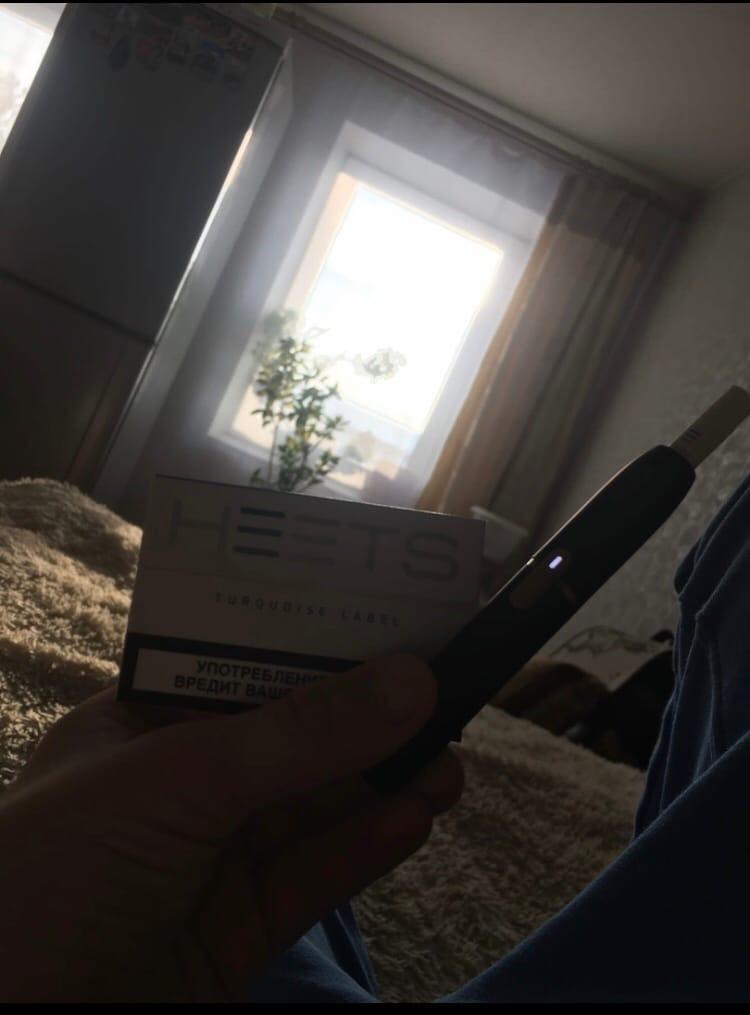iqos: (367, 386, 749, 791)
